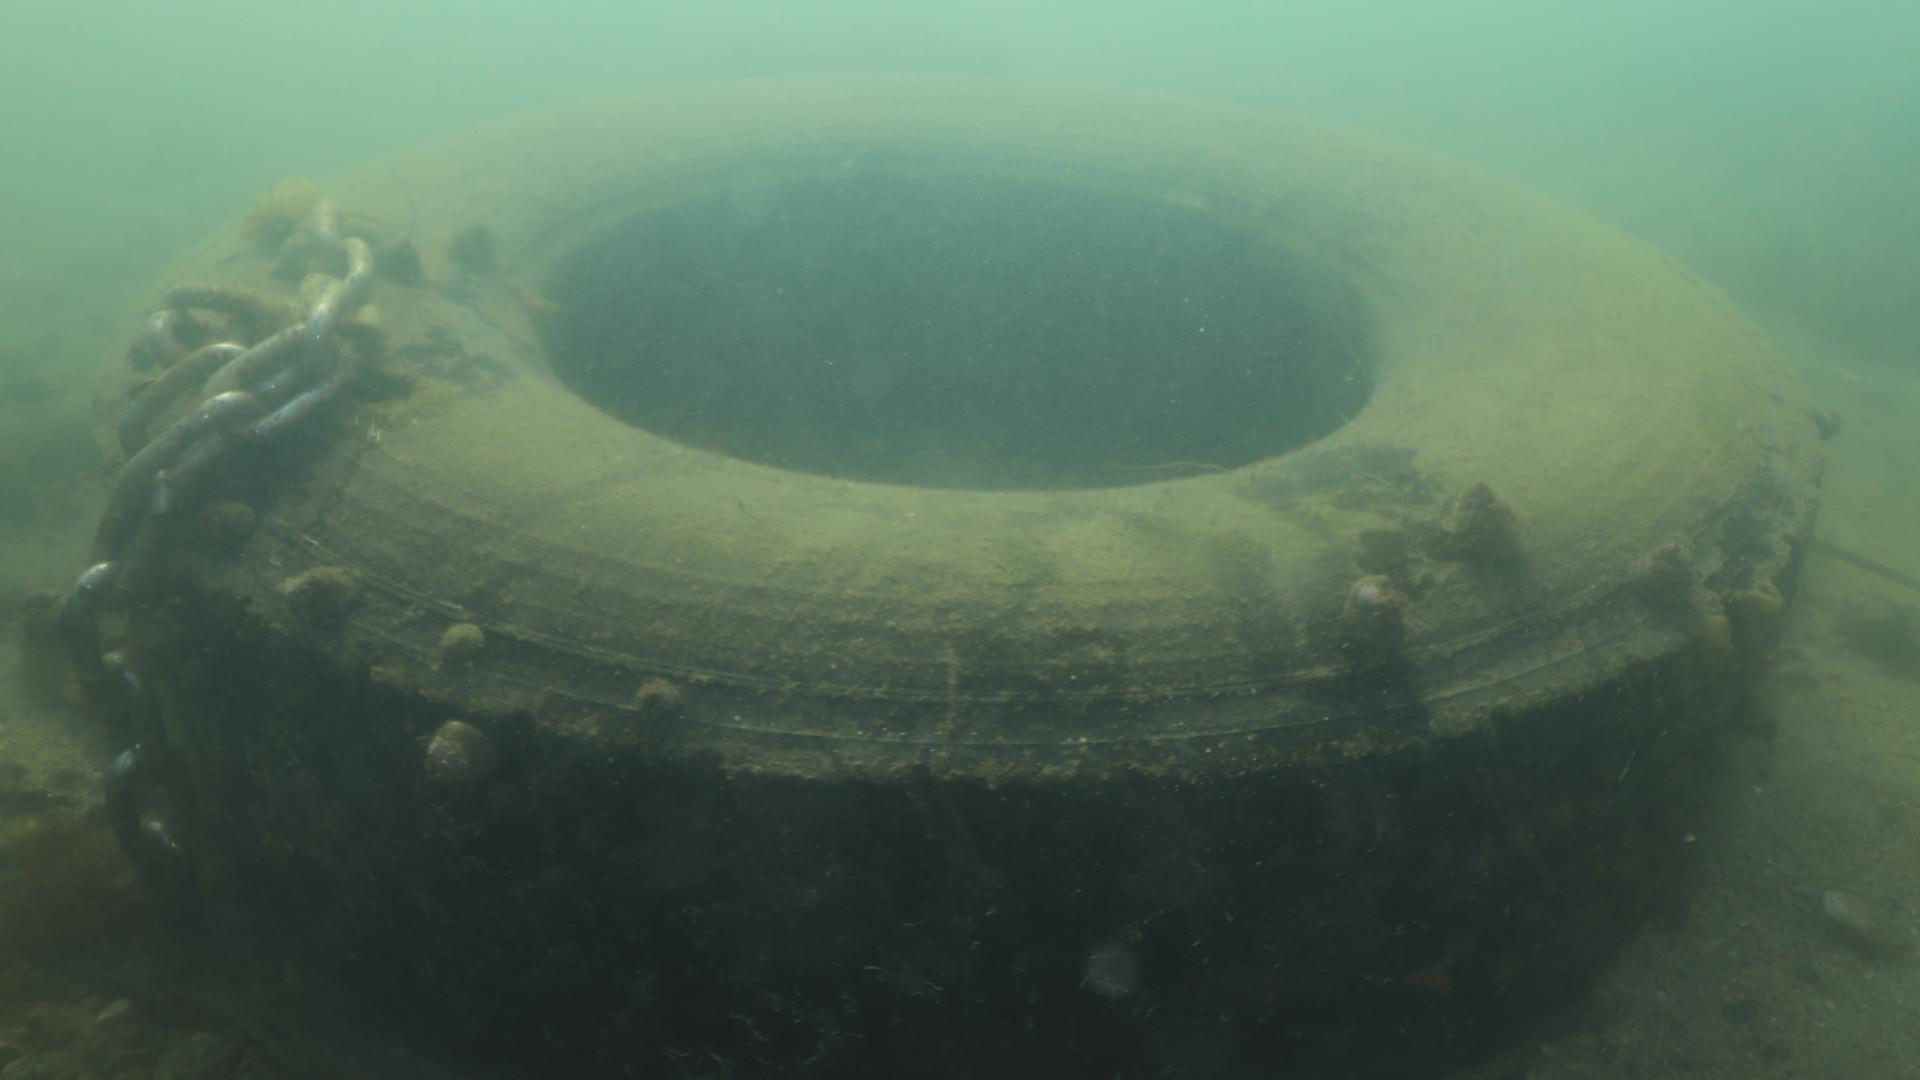tire: (86, 70, 1818, 1080)
